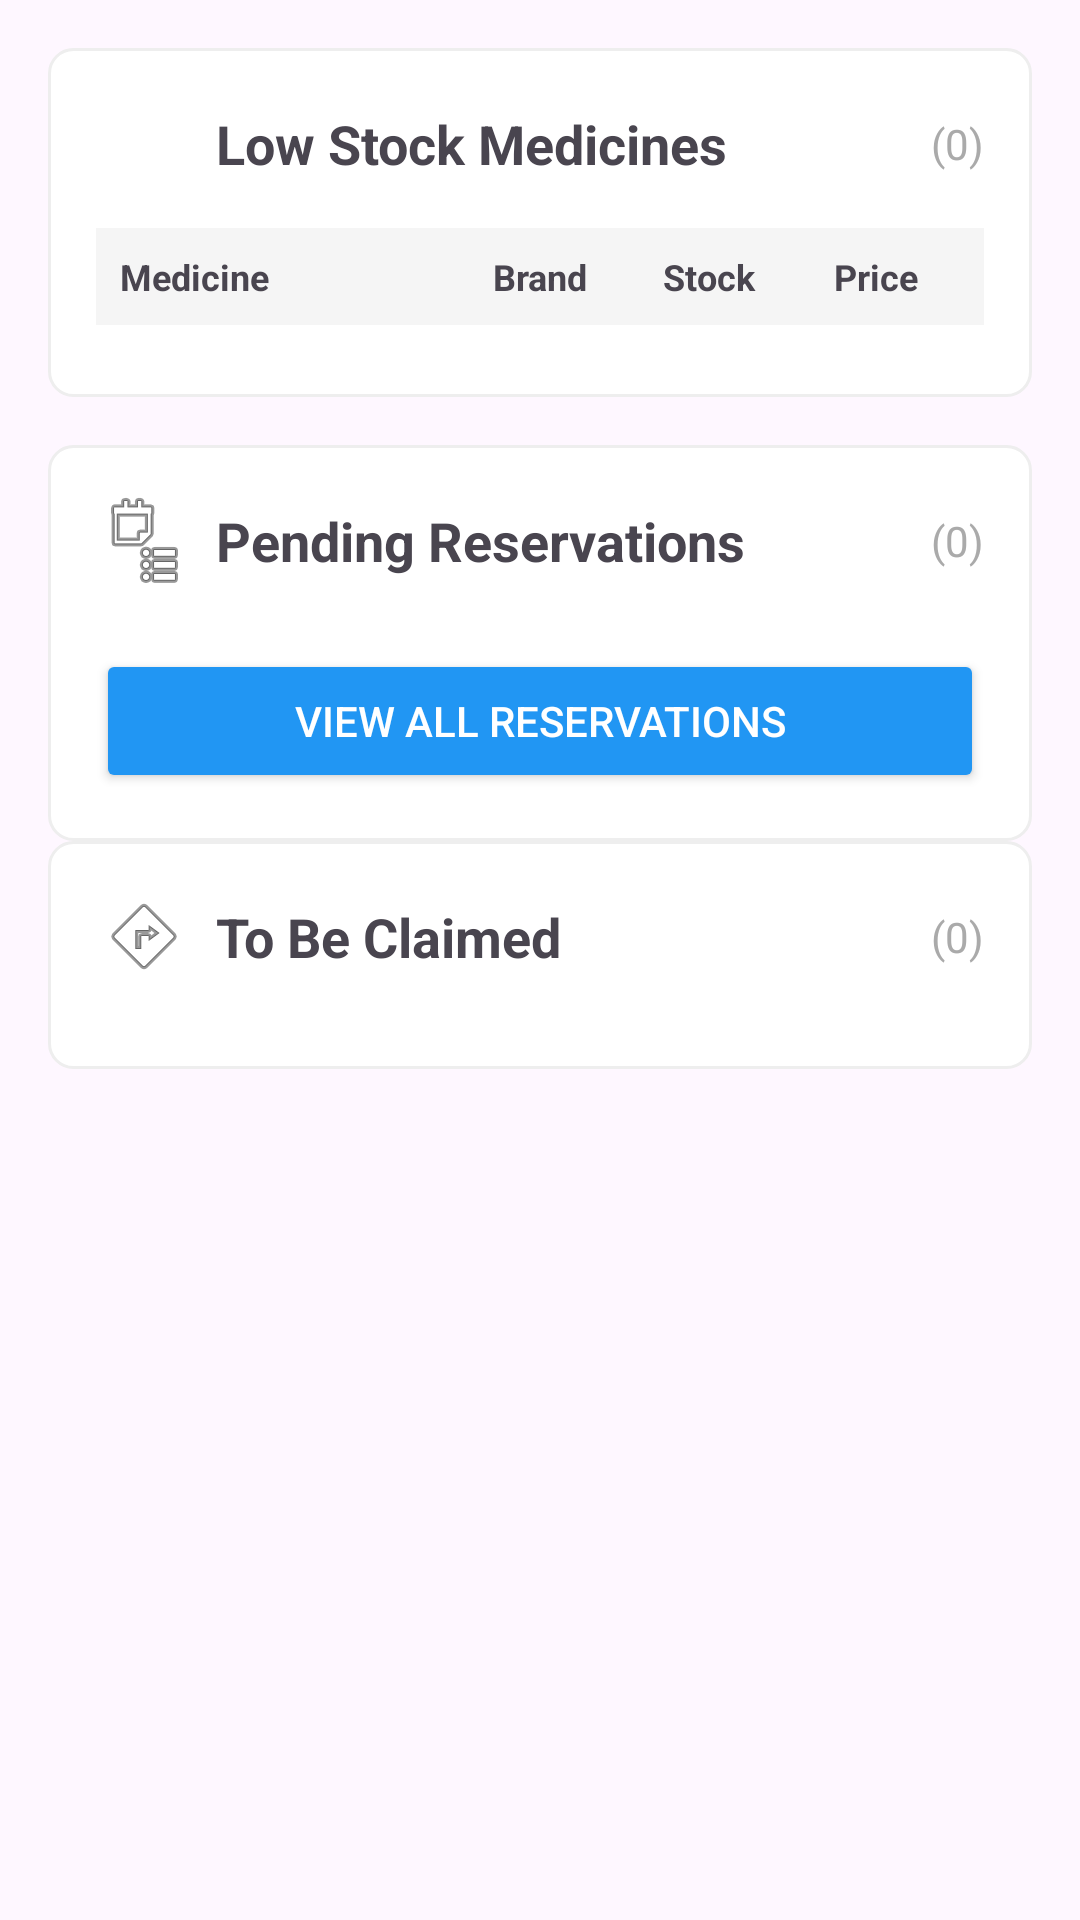

Screen size 1080px×1920px. Icon name, then its box in pixels as (x1, y1, x2, y2):
agenda: (111, 498, 178, 583)
directions: (111, 904, 177, 969)
